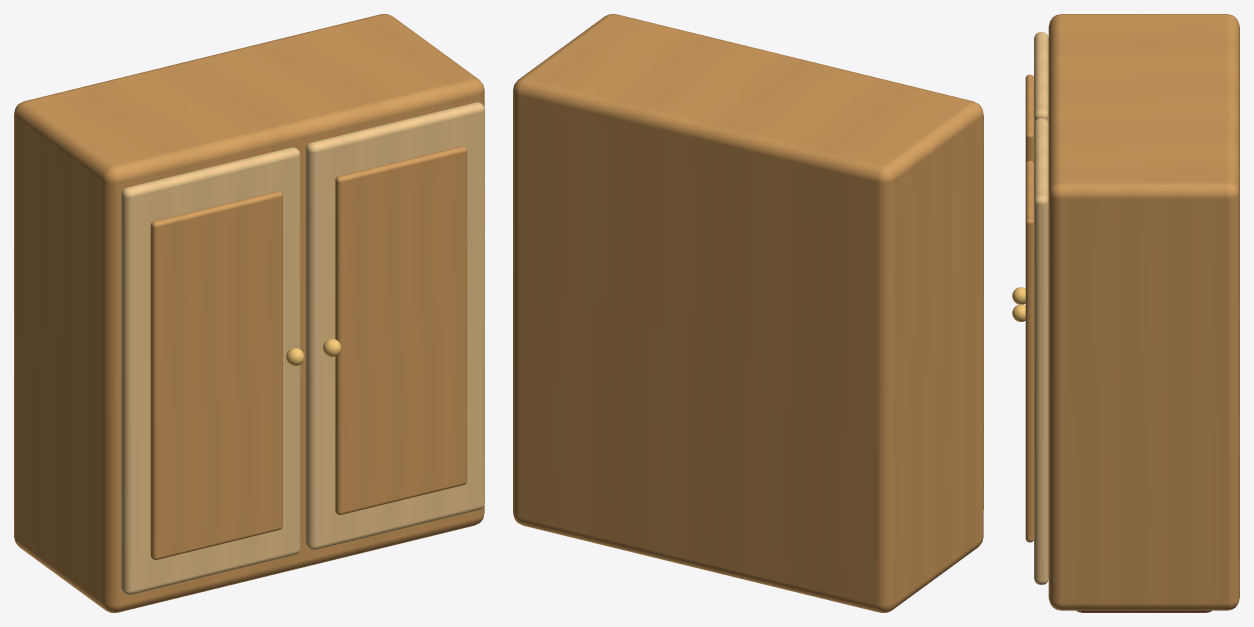
The model's file is CABINET.glb.
3 views of the same model, side by side, from view 1: azimuth 30°, elevation 25°; view 2: azimuth 150°, elevation 25°; view 3: azimuth 270°, elevation 25° (orthographic). The views are drawn at different scales.
Visible parts, largest first — view 1: CABINET; view 2: CABINET; view 3: CABINET.
Part boxes in pixels (x1,y1,x2,y2): CABINET: (14,14,484,612); CABINET: (513,14,983,612); CABINET: (1012,14,1239,612).
Size of the model in its own units: 0.99 by 1.13 by 0.536.
4 materials, 2 textured.
